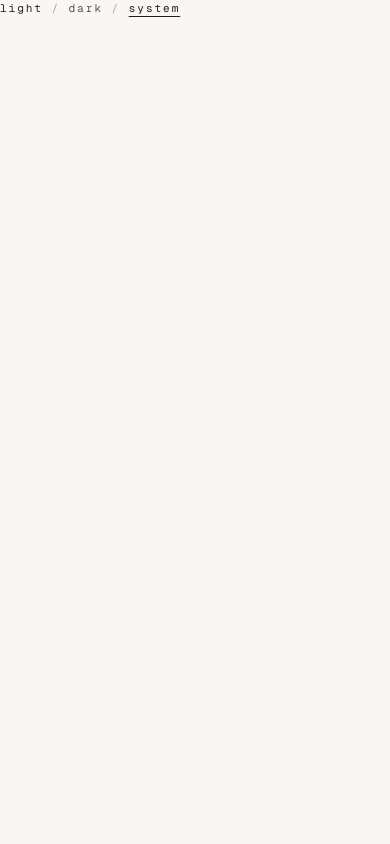
ThemeToggle (shared component) › pressing a mode persists it to storage
Click the button "dark" at (86, 8), box x1=69 y1=0 x2=103 y2=16
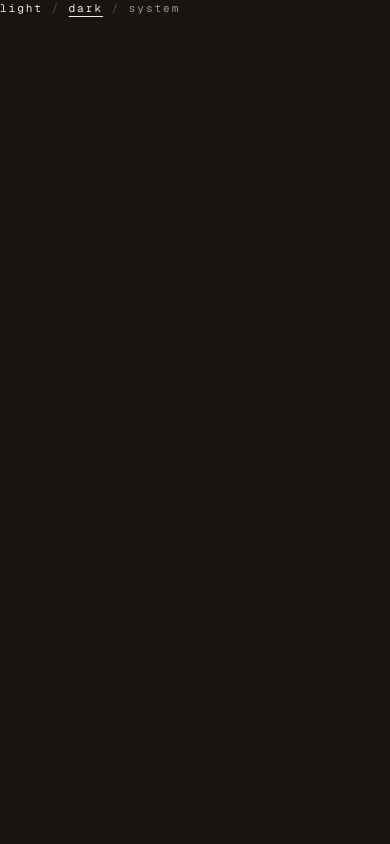
Expected: the button "dark" is pressed, x1=69 y1=0 x2=103 y2=16
